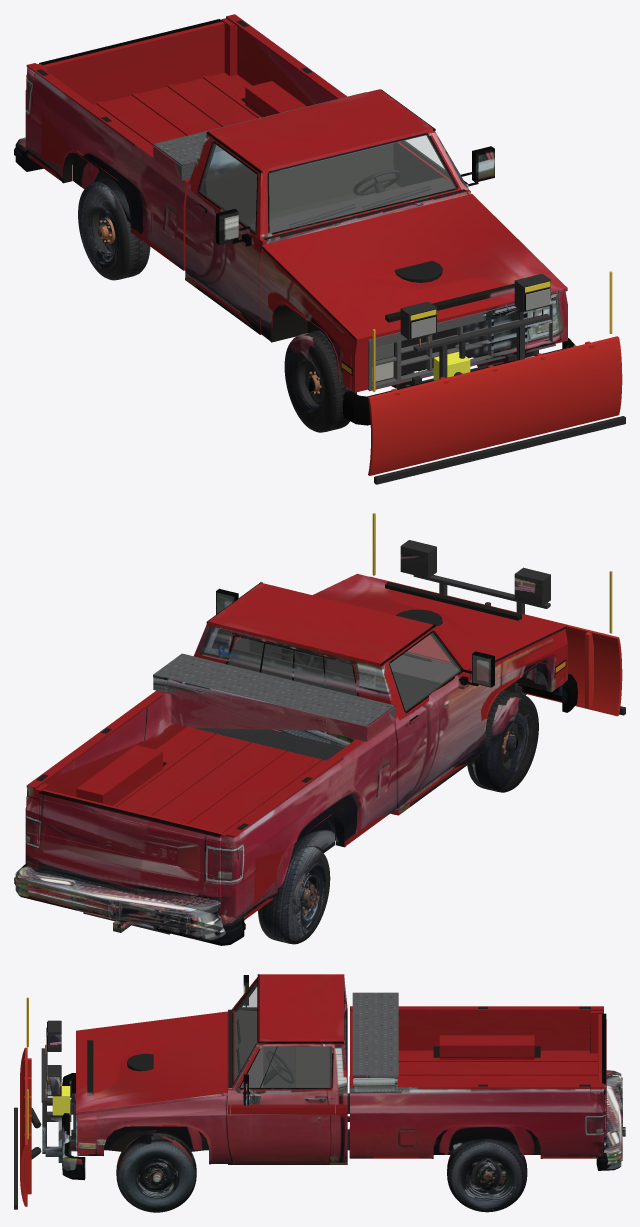
File: bobs_truck.glb
The picture shows the model from 3 angles, top to bottom: view 1: azimuth 30°, elevation 25°; view 2: azimuth 150°, elevation 25°; view 3: azimuth 270°, elevation 25°; orthographic projection. The views are drawn at different scales.
Visible parts, largest first — view 1: bt_body_front, bt_body_cab, bt_bed, bt_plowblade, bt_glass, bt_tailgate, bt_plowmount, bt_tire_FR, bt_tire_RR, bt_toolbox, bt_bumper_F, bt_wheel_FR (+2 smaller); view 2: bt_bed, bt_body_cab, bt_tailgate, bt_toolbox, bt_body_front, bt_bumper_R, bt_glass, bt_plowblade, bt_tire_FR, bt_tire_RR, bt_plowmount, bt_wheel_RR (+2 smaller); view 3: bt_bed, bt_body_cab, bt_body_front, bt_glass, bt_toolbox, bt_tire_FL, bt_tire_RL, bt_plowmount, bt_plowblade, bt_bumper_R, bt_bumper_F, bt_wheel_FL (+4 smaller).
Part boxes in pixels (box(x1,y1,x2,y2)): bt_body_front: box(260, 194, 567, 392); bt_body_cab: box(185, 89, 494, 334); bt_bed: box(25, 14, 346, 270); bt_plowblade: box(368, 271, 625, 484); bt_glass: box(200, 135, 455, 232); bt_tailgate: box(39, 19, 224, 104); bt_plowmount: box(400, 273, 550, 380); bt_tire_FR: box(284, 330, 356, 432); bt_tire_RR: box(78, 182, 150, 280); bt_toolbox: box(153, 92, 366, 180); bt_bumper_F: box(342, 338, 576, 425); bt_wheel_FR: box(297, 359, 322, 408); bt_bed: box(25, 690, 396, 919); bt_body_cab: box(194, 582, 494, 815); bt_tailgate: box(39, 789, 223, 915); bt_toolbox: box(153, 653, 395, 760); bt_body_front: box(312, 573, 567, 758); bt_bumper_R: box(14, 864, 245, 945); bt_glass: box(228, 633, 459, 710); bt_plowblade: box(370, 513, 625, 716); bt_tire_FR: box(467, 690, 538, 792); bt_tire_RR: box(258, 846, 330, 944); bt_plowmount: box(400, 540, 550, 695); bt_wheel_RR: box(292, 871, 317, 920); bt_bed: box(350, 1006, 605, 1158); bt_body_cab: box(228, 974, 347, 1164); bt_body_front: box(75, 1011, 227, 1164); bt_glass: box(234, 983, 345, 1087); bt_toolbox: box(352, 992, 398, 1088); bt_tire_FL: box(116, 1133, 196, 1212); bt_tire_RL: box(447, 1139, 527, 1212); bt_plowmount: box(41, 1020, 71, 1162); bt_plowblade: box(14, 997, 41, 1209); bt_bumper_R: box(596, 1070, 625, 1170); bt_bumper_F: box(62, 1073, 85, 1180); bt_wheel_FL: box(136, 1159, 176, 1195).
Size of the model in its own units: 2.56 by 1.85 by 6.18.
23 materials, 16 textured.
